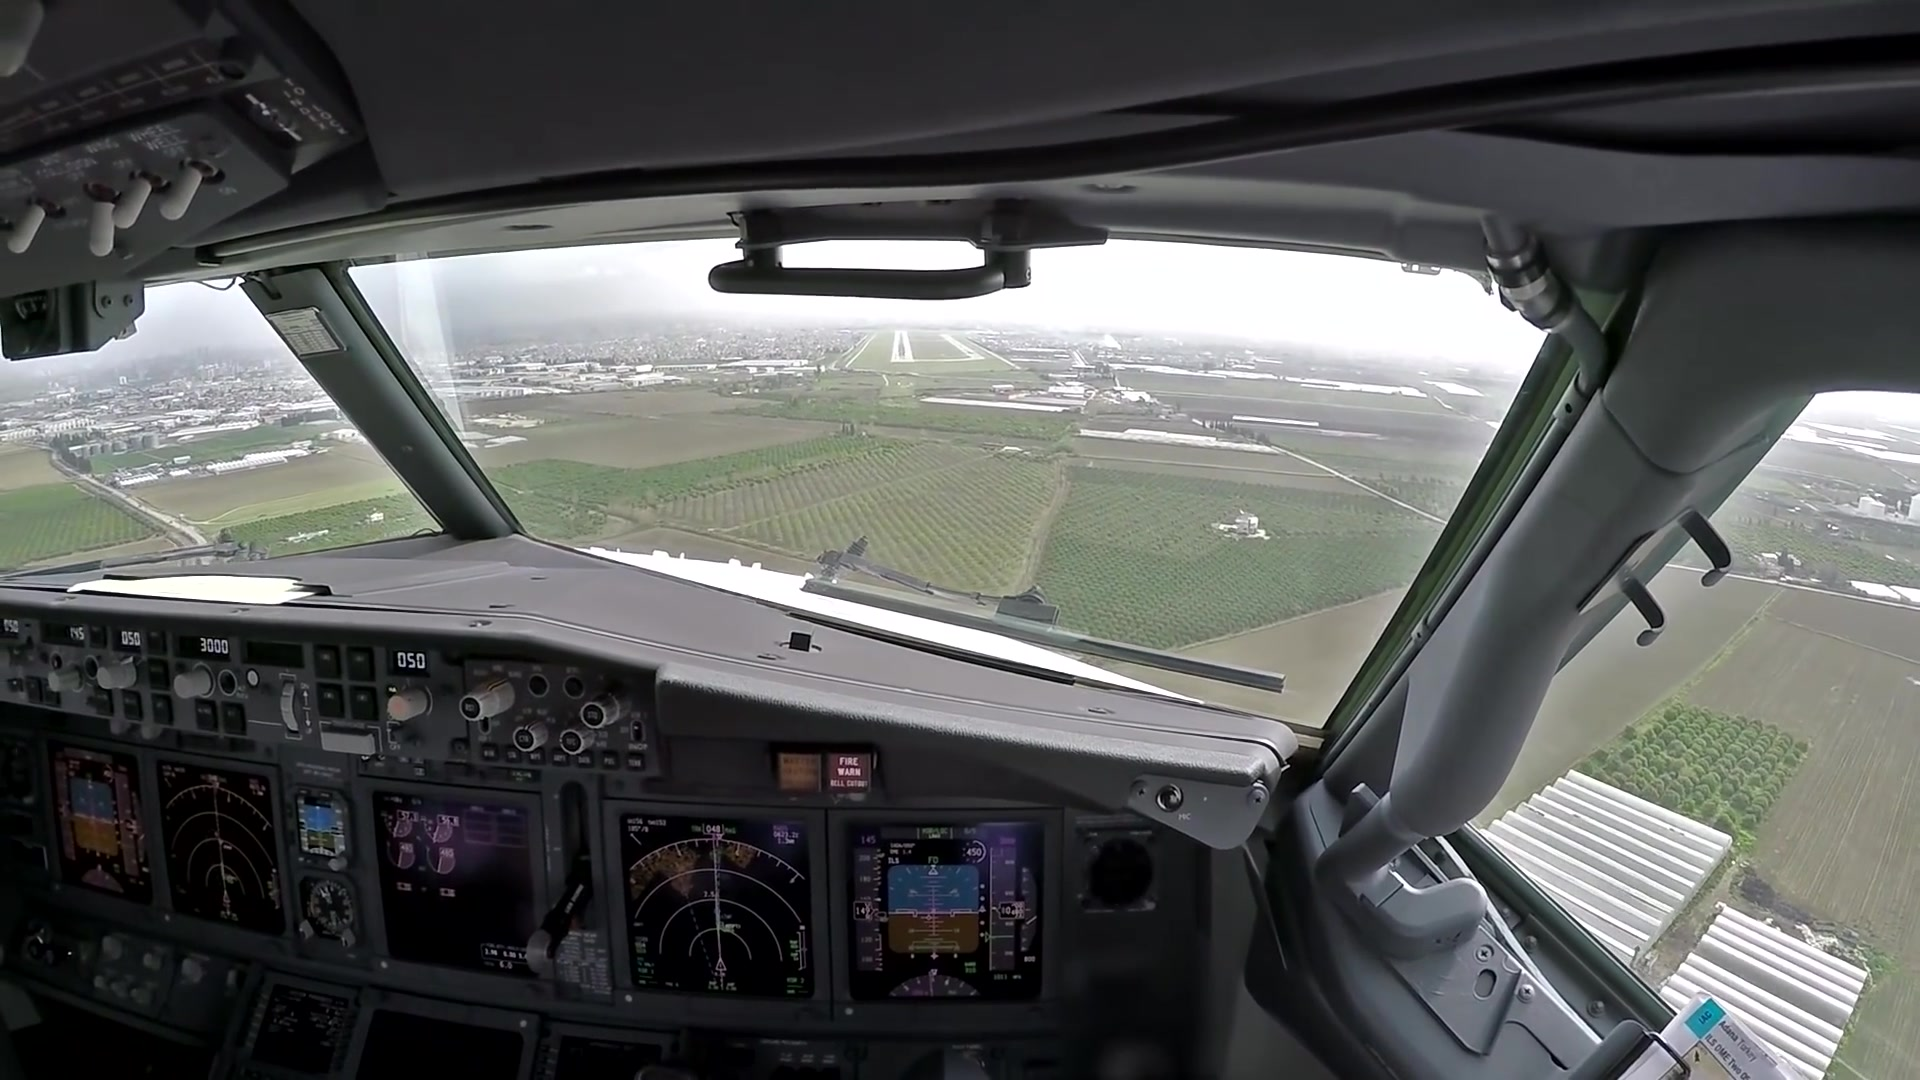runway: (887, 330, 915, 363)
